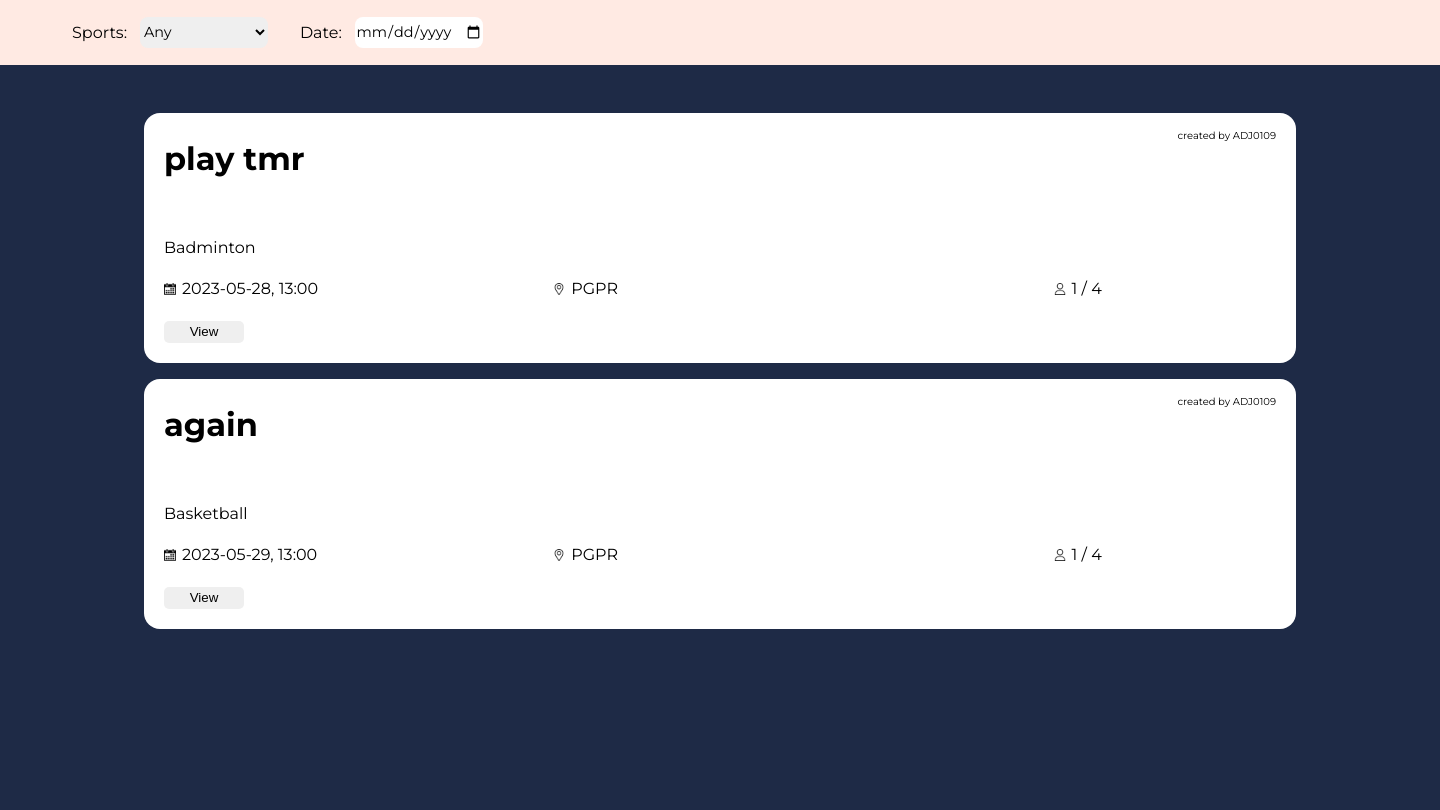
Test: Meetups Page › Filter by meetup date
Check: the heading "play tmr" is shown, box [164, 139, 305, 178]
Check: the heading "again" is shown, box [164, 405, 258, 444]
Note: Filtering by given date
Type "2023-05-29" into the date field with test id "input-date" at point(419, 32), box [355, 17, 483, 48]
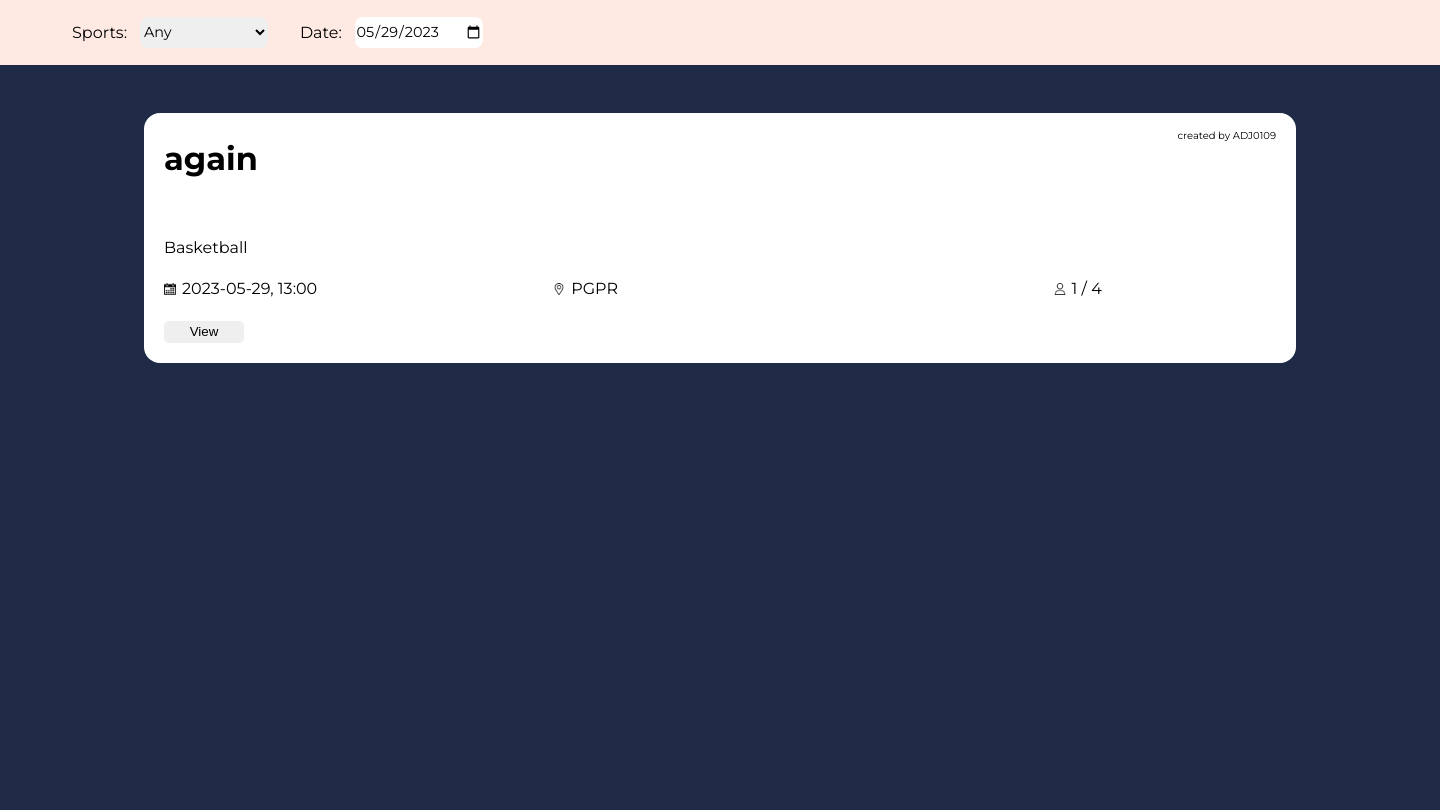
Check: the heading "again" is shown, box [164, 139, 258, 178]
